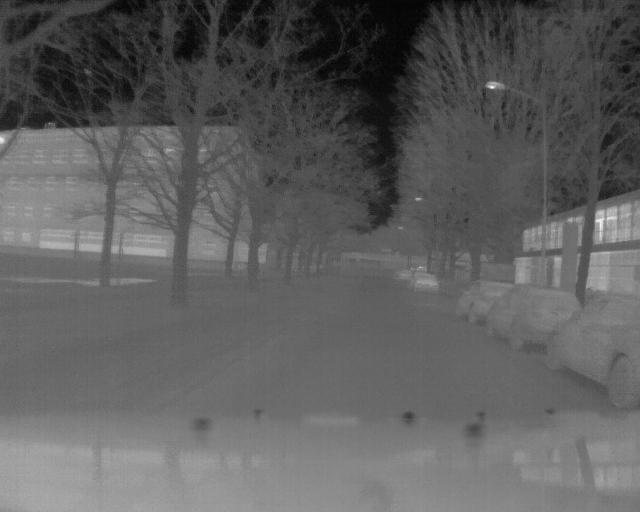car: (546, 295, 640, 414), (485, 284, 582, 348), (453, 276, 509, 321), (409, 271, 442, 294)
